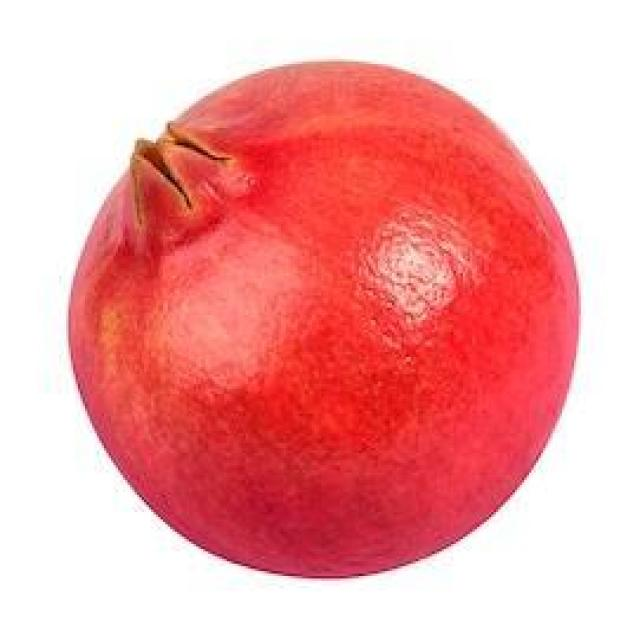Pomegranate: (67, 59, 583, 579)
